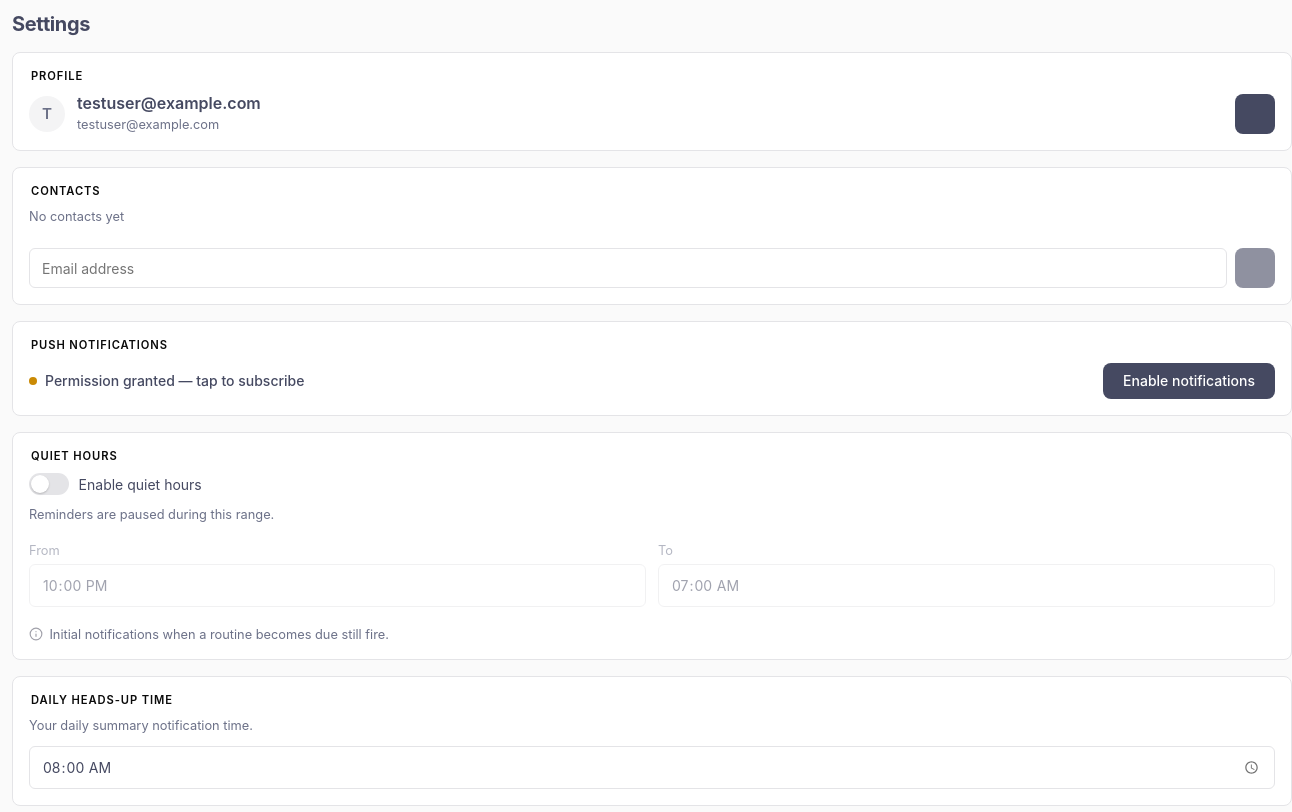
Test case: SettingsPage › rejects invalid email format client-side without firing a request
This screenshot has width=1292, height=812.
Expected: the text "Contacts" is shown, [31,184,100,198]
In the field with test id "add-contact-email": (628, 268) [29,248,1227,288], type "not-an-email"
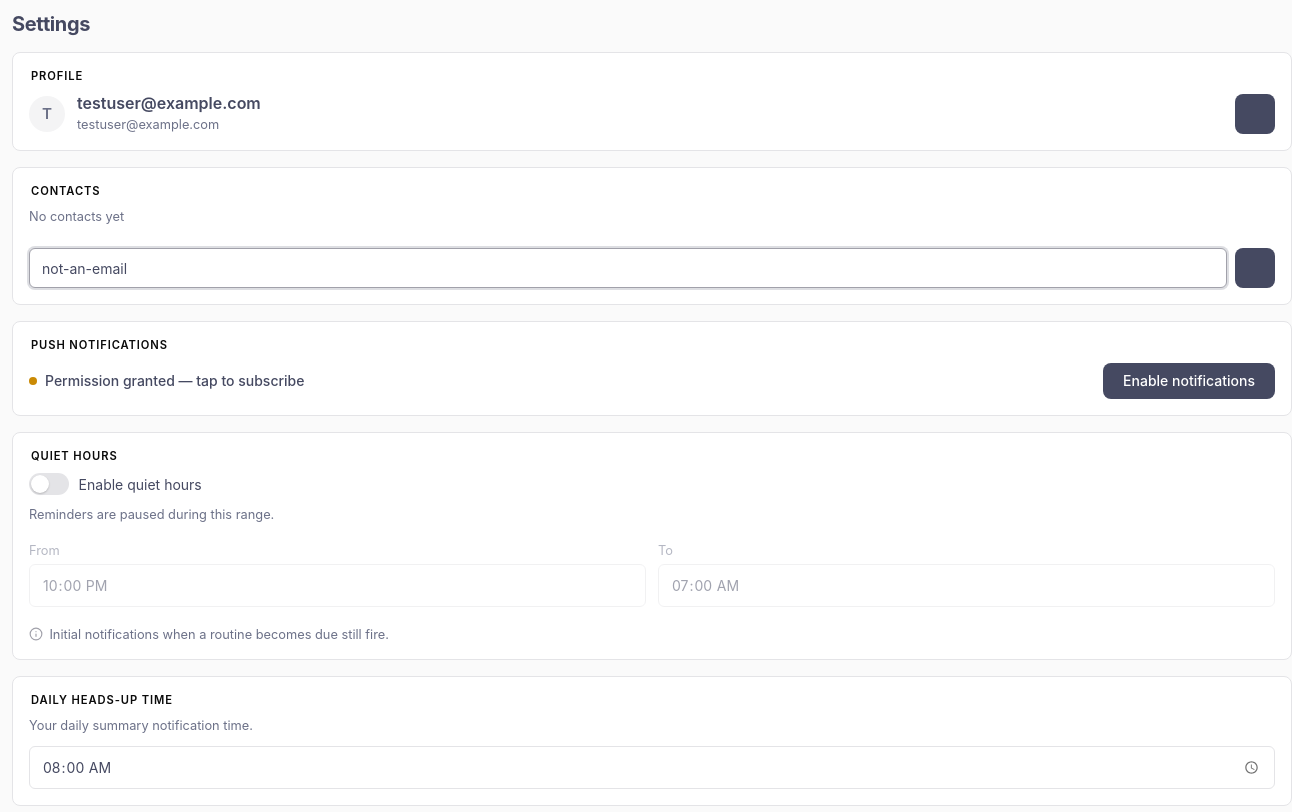
Click the button with test id "add-contact-submit": (1255, 268) [1235,248,1275,288]
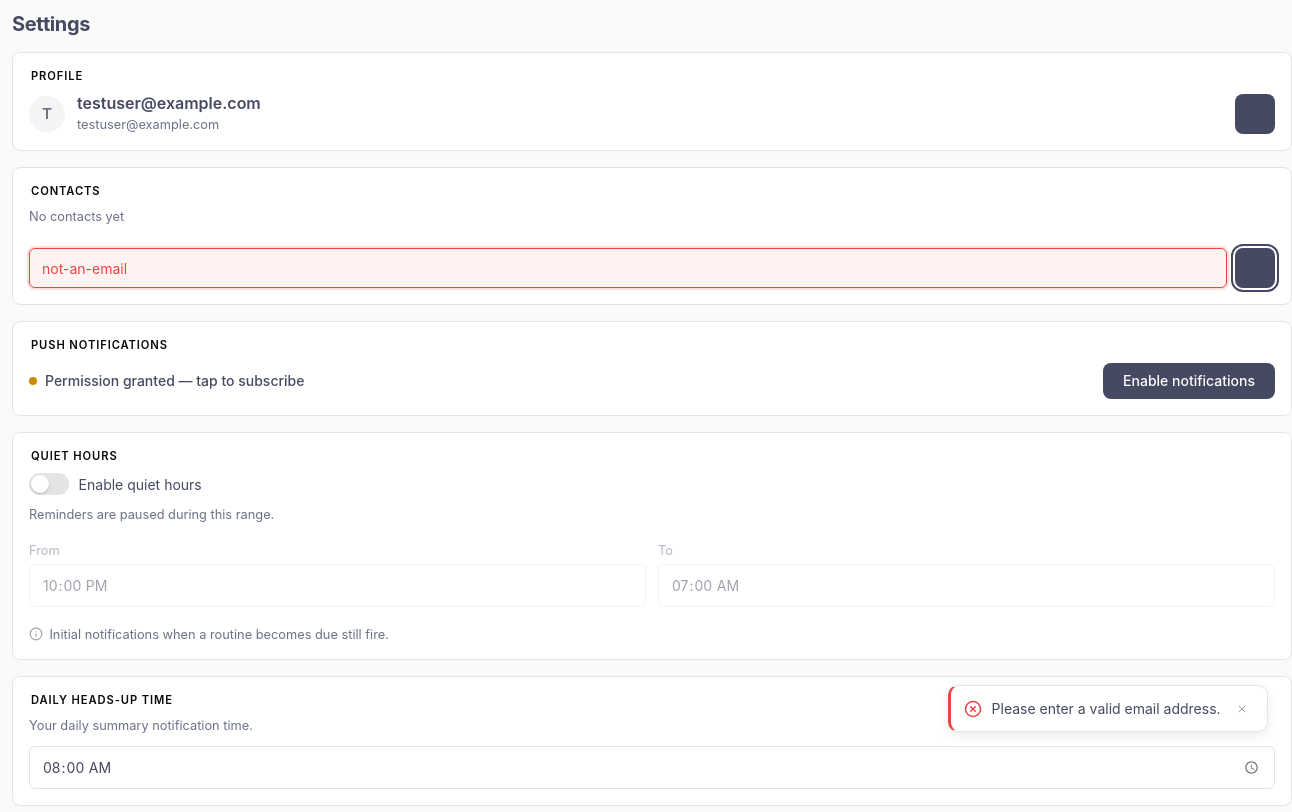
Now the text "Please enter a valid email address." is shown, box [992,700,1221,718]
